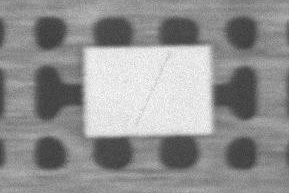DIE_CRACK: (204, 35, 255, 83)
